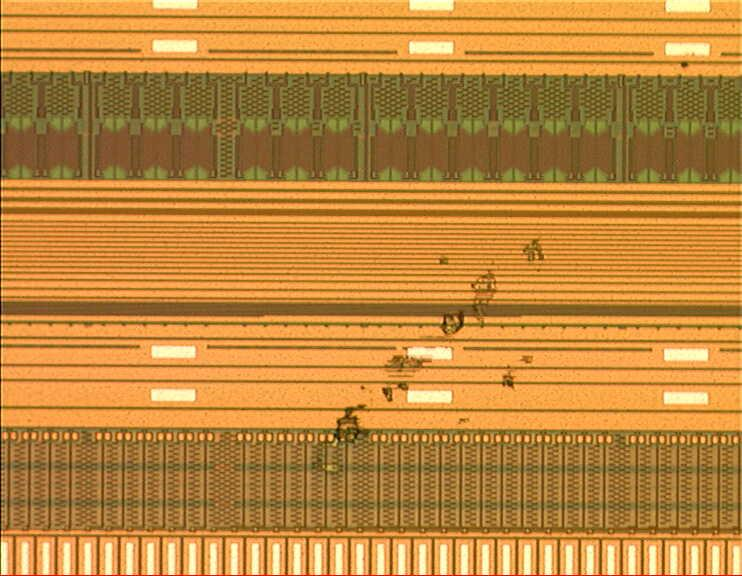SCRATCH: (312, 54, 705, 482)
